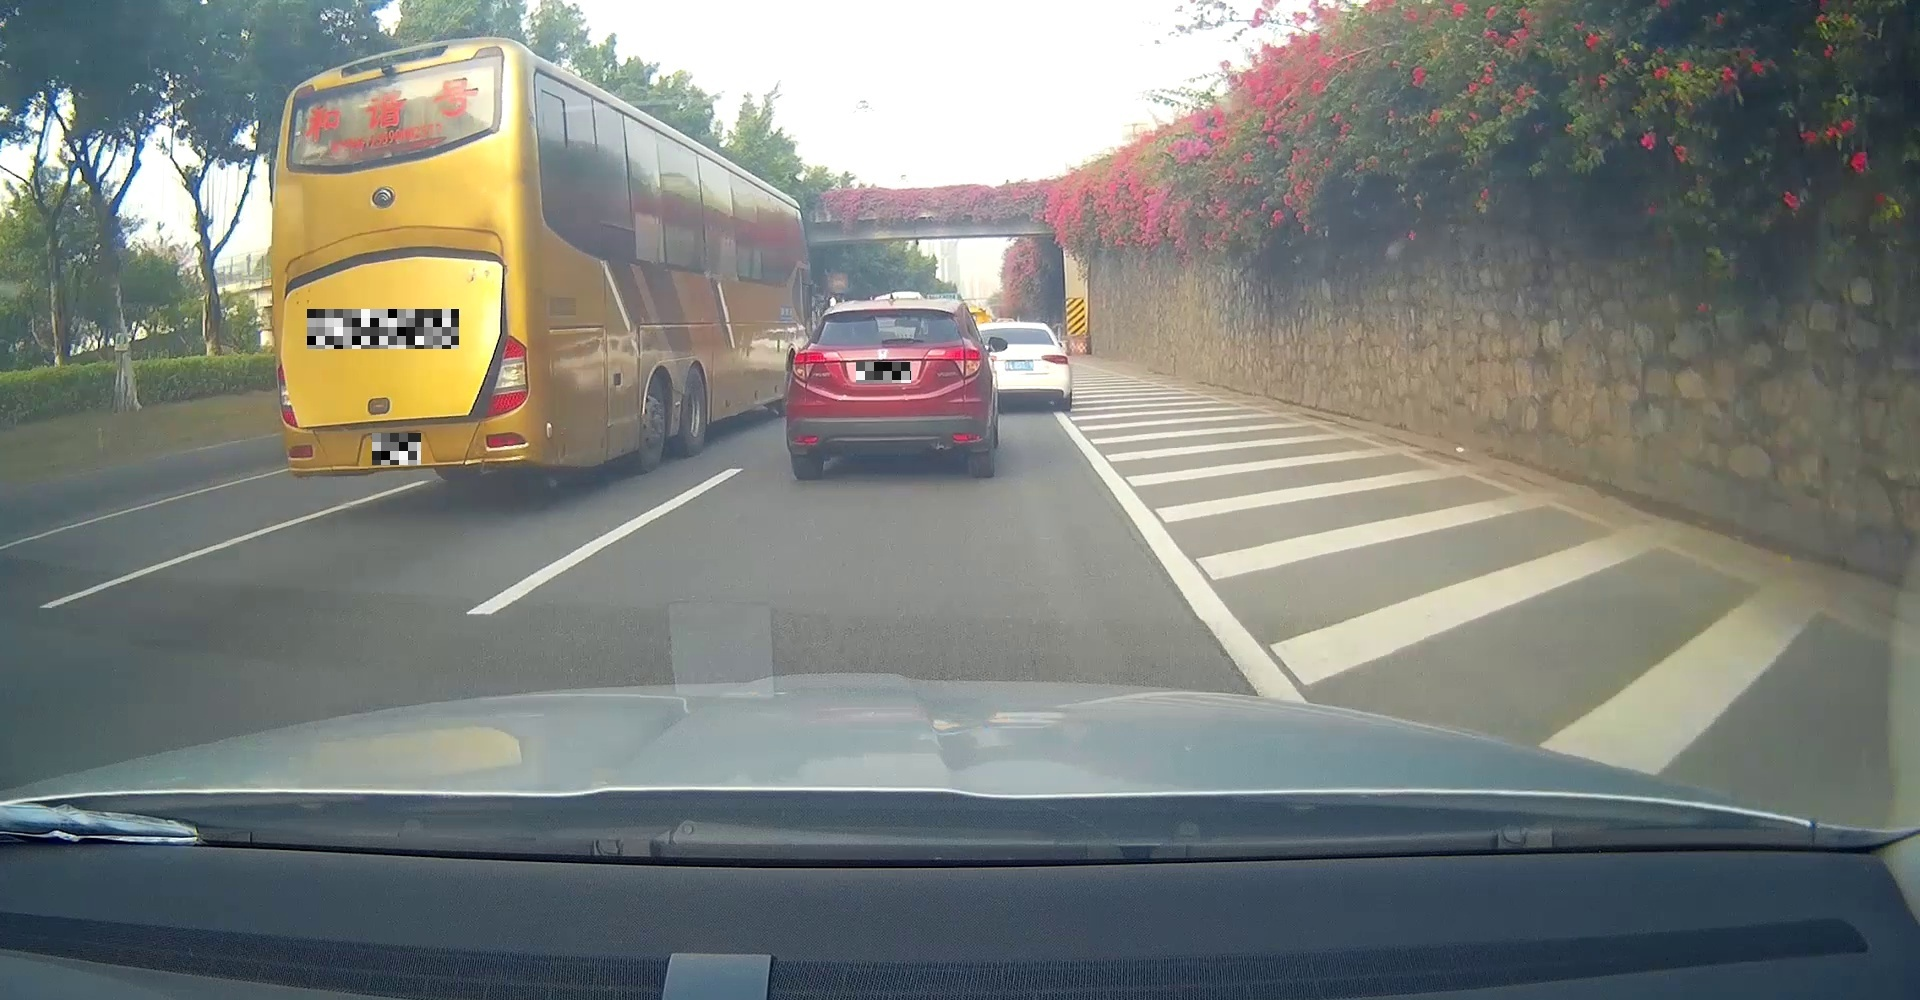L_light: (792, 349, 841, 383), (277, 359, 298, 429)
R_light: (483, 334, 530, 420), (924, 345, 982, 379)
T_light: (342, 136, 448, 162), (869, 308, 899, 315)
day-no: (268, 36, 535, 484), (785, 298, 992, 480)
plate_1: (307, 308, 458, 349)
plate_2: (372, 433, 422, 464)
plate_3: (856, 362, 910, 383)
